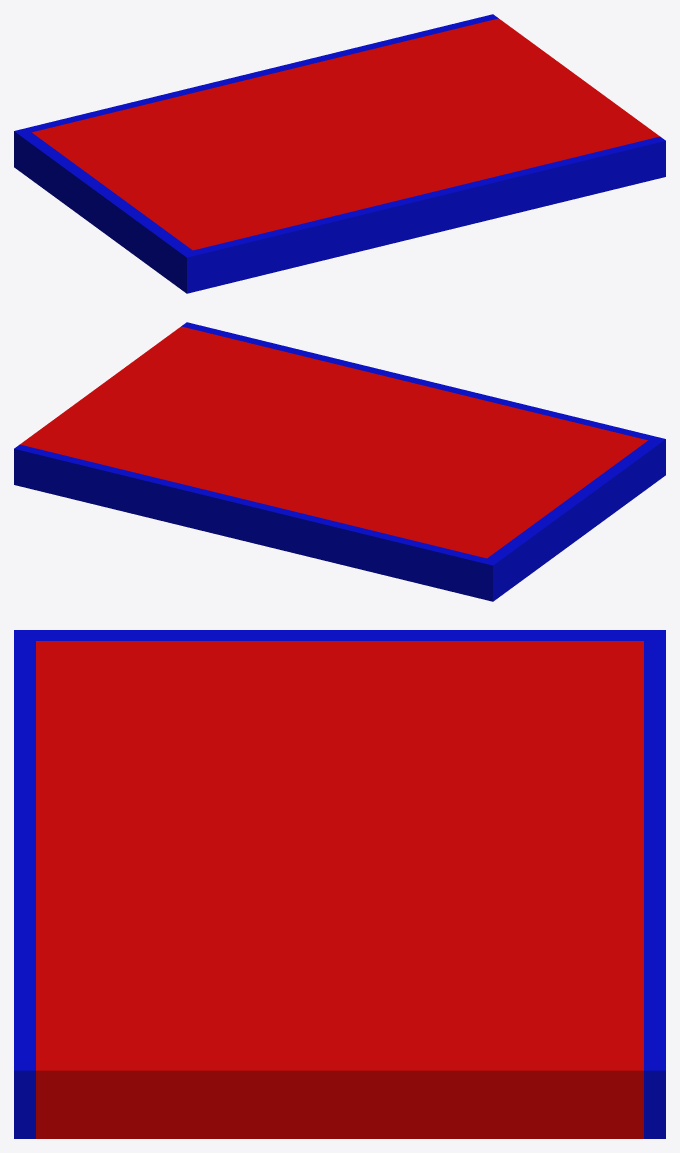
File: Pont.FBX
3 views of the same model, one above another, from view 1: azimuth 30°, elevation 25°; view 2: azimuth 150°, elevation 25°; view 3: azimuth 270°, elevation 25° (orthographic). The views are drawn at different scales.
Visible parts, largest first — view 1: Pont01Scene02; view 2: Pont01Scene02; view 3: Pont01Scene02.
Boxes of the visible parts, x1,y1,x2,y2 form: Pont01Scene02: (14,14,665,293); Pont01Scene02: (14,322,665,601); Pont01Scene02: (14,630,665,1138).
Size of the model in its own units: 190 by 13.73 by 119.
